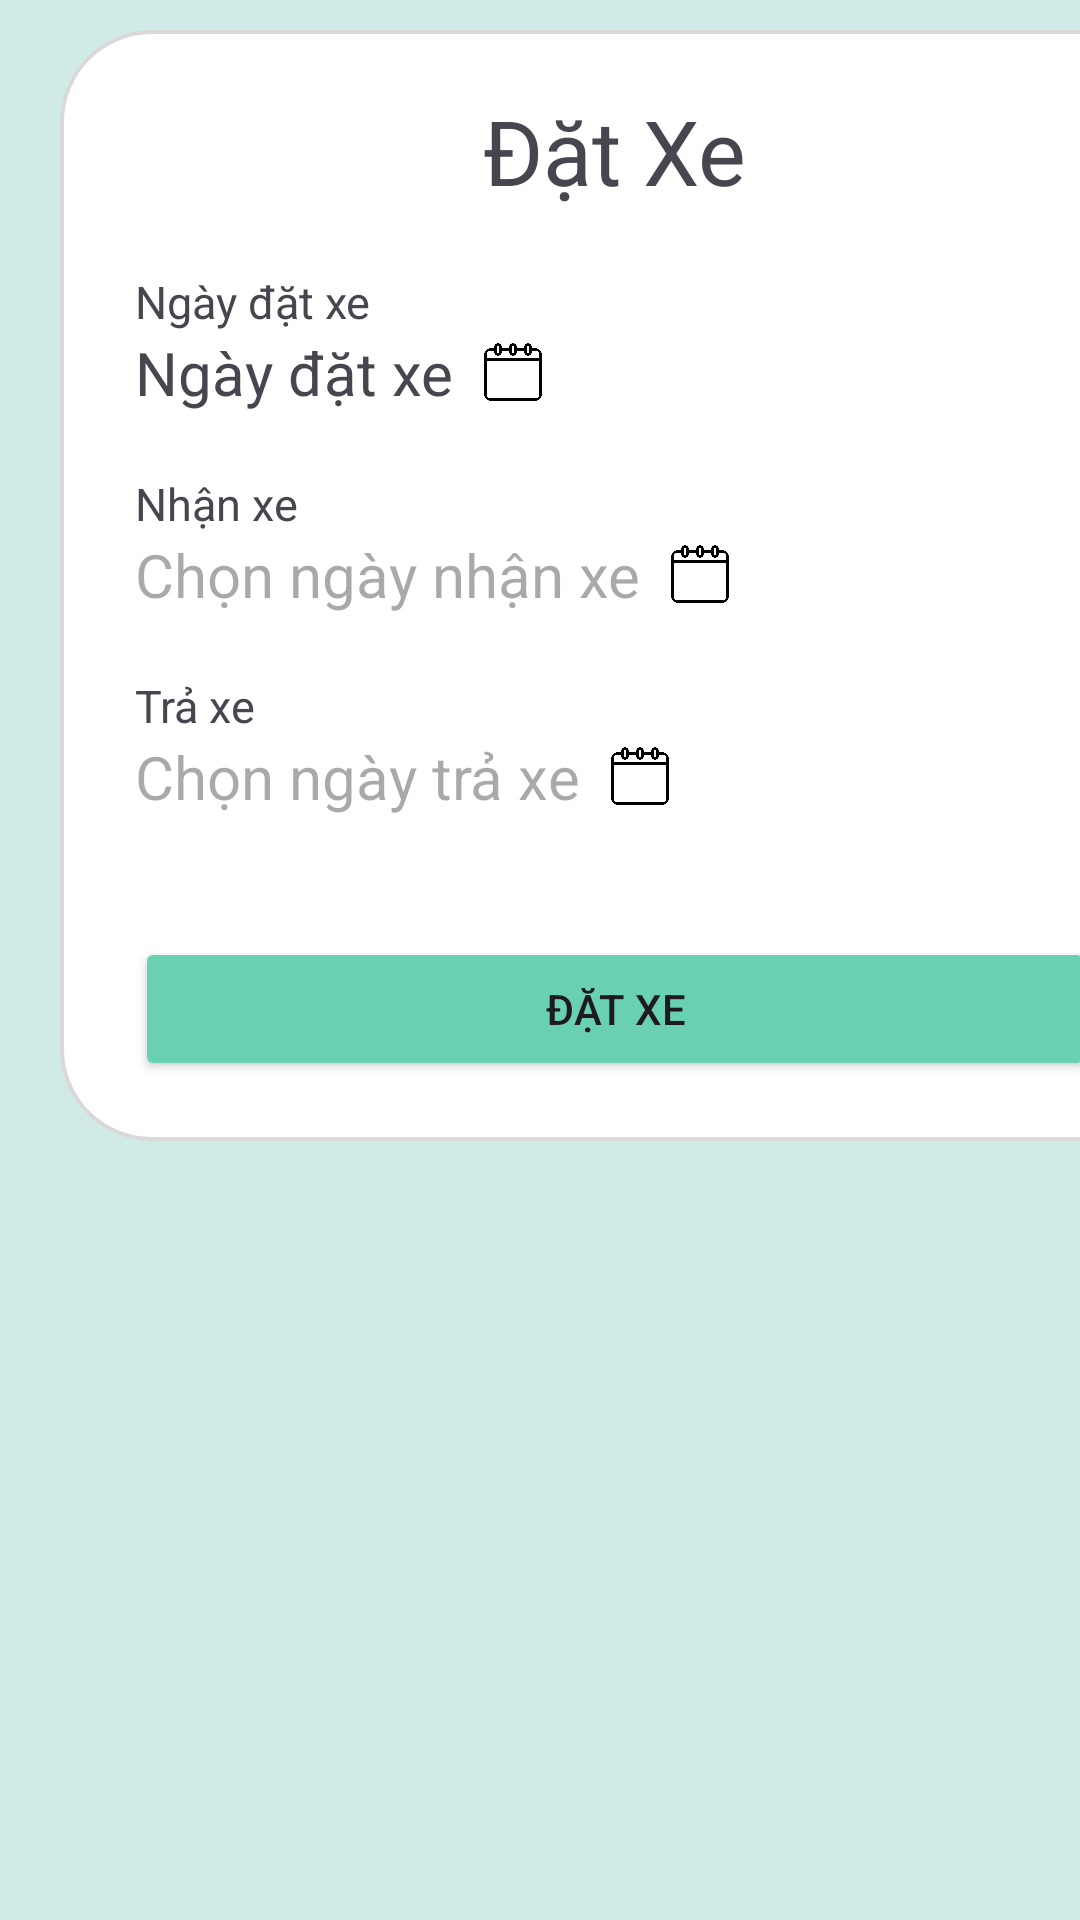

Locate icon controls on the screen. Image size 1080 × 1920, boxes as (x1, y1, x2, y2).
calendar: (484, 343, 542, 401), (671, 545, 729, 603), (611, 747, 669, 805)
